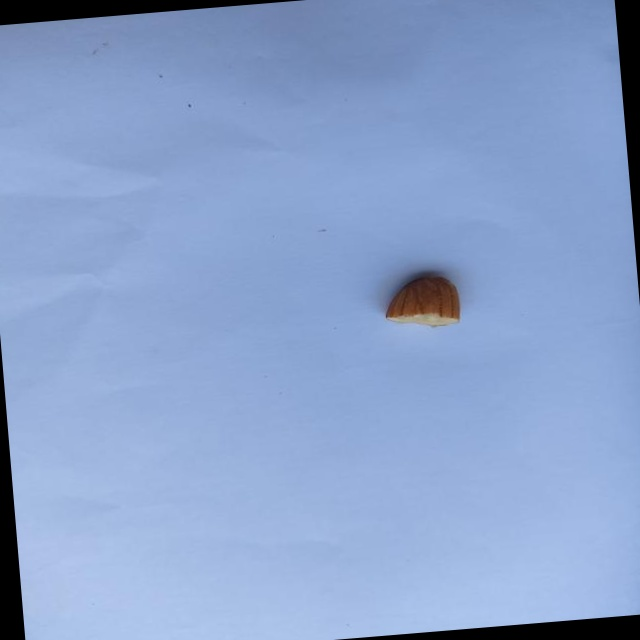grade4: (373, 266, 469, 336)
